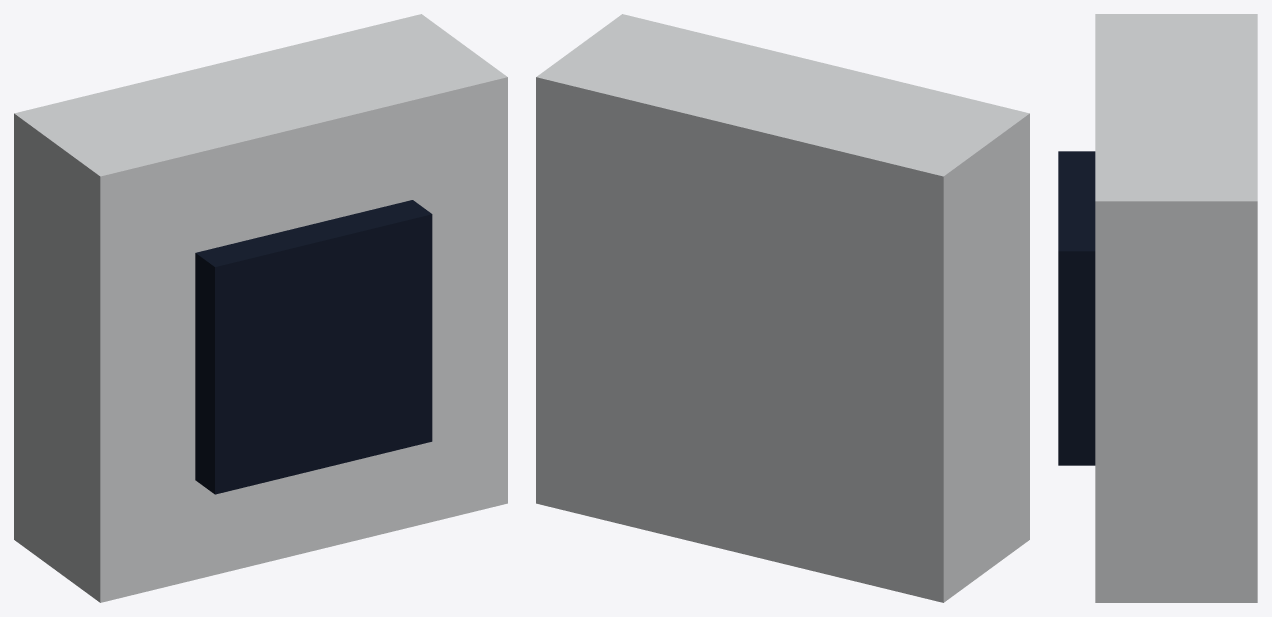
File: term-zone-sensor.glb
3 renders of one model, left to right at view 1: azimuth 30°, elevation 25°; view 2: azimuth 150°, elevation 25°; view 3: azimuth 270°, elevation 25°, orthographic. The views are drawn at different scales.
Parts seen in each view (by area): view 1: hvac-terminal-zone-sensor; view 2: hvac-terminal-zone-sensor; view 3: hvac-terminal-zone-sensor.
Boxes of the visible parts, bbox=[...] form: hvac-terminal-zone-sensor: bbox=[14, 14, 507, 602]; hvac-terminal-zone-sensor: bbox=[536, 14, 1029, 602]; hvac-terminal-zone-sensor: bbox=[1058, 14, 1257, 602].
Size of the model in its own units: 0.06 by 0.06 by 0.027.
